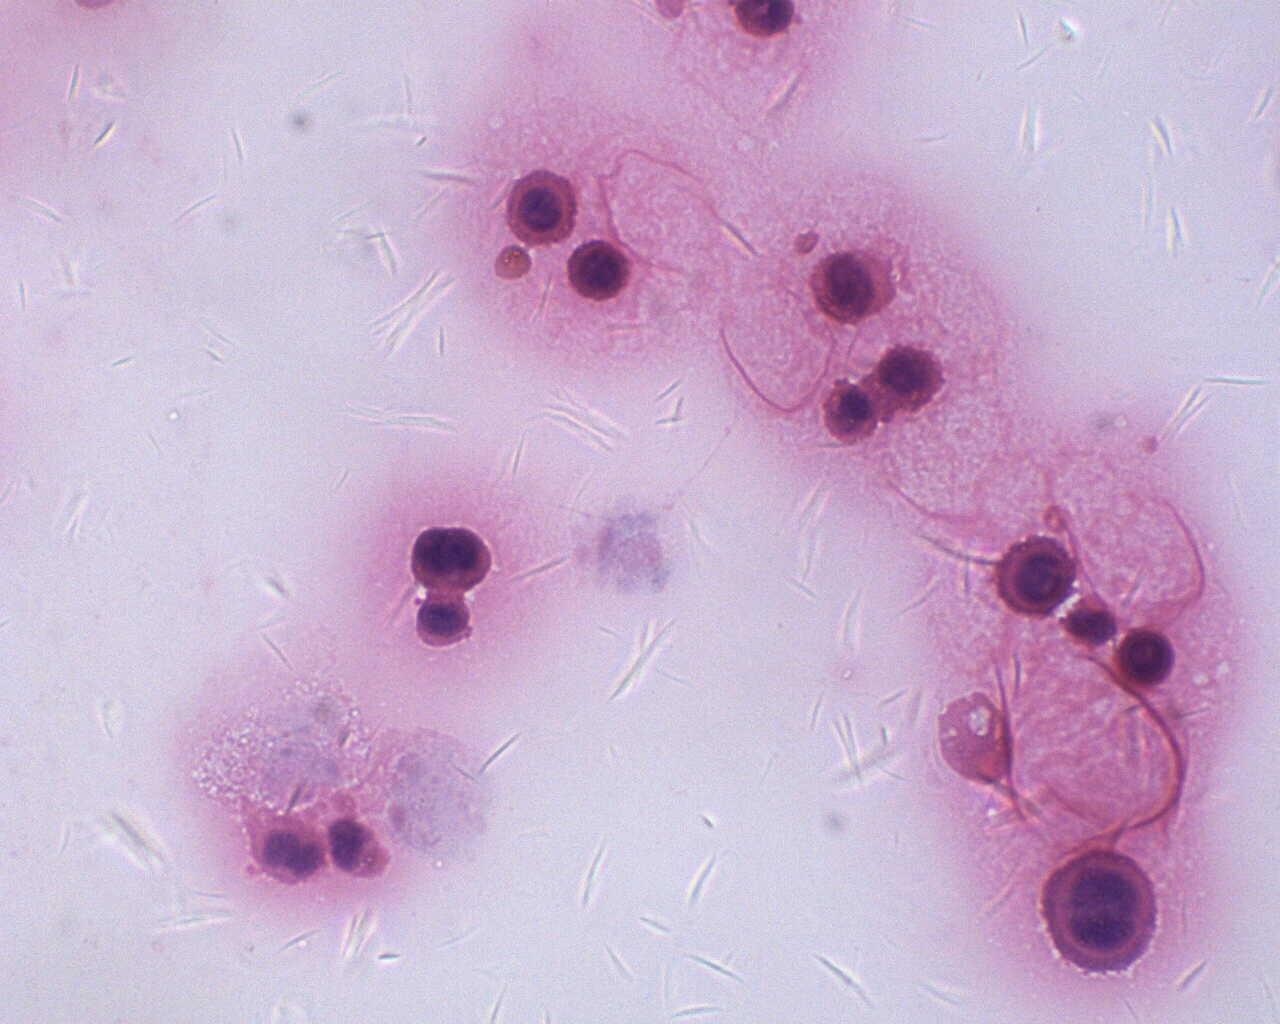ab: (994, 531, 1076, 621), (411, 522, 497, 596), (876, 338, 949, 414), (409, 594, 479, 654), (820, 377, 880, 447), (1111, 627, 1174, 692)
meso: (1043, 844, 1164, 980), (806, 243, 898, 323), (501, 166, 579, 247), (563, 238, 635, 307)
